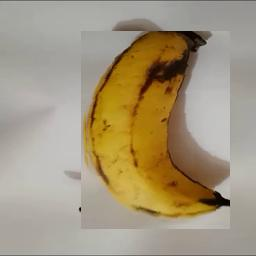Banana Semifresh: (82, 31, 231, 229)
